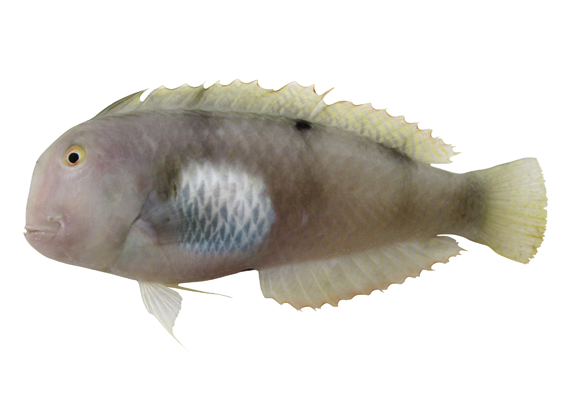fish: (22, 80, 549, 350)
